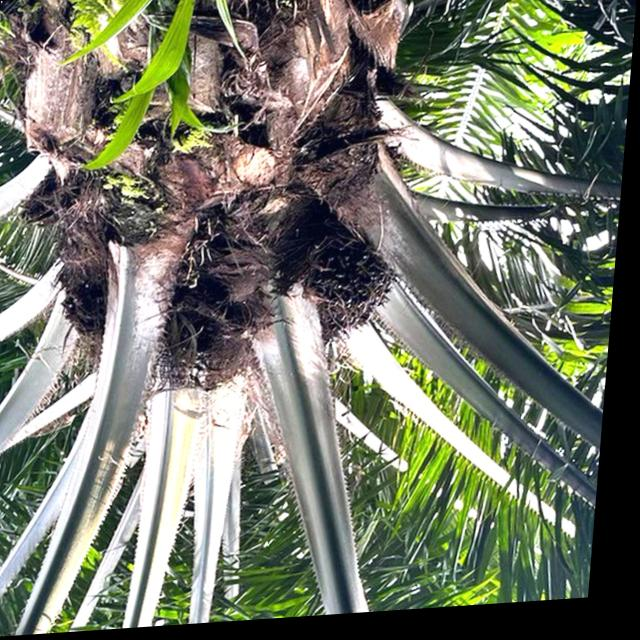almost: (283, 220, 413, 354)
